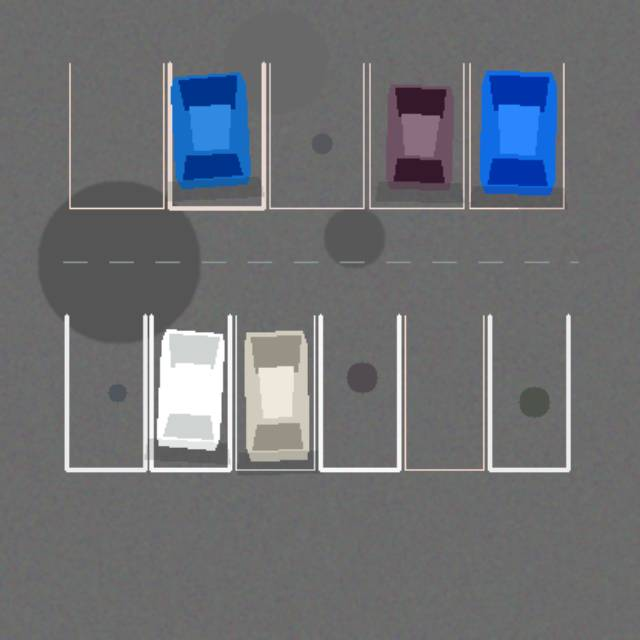space-empty: (69, 63, 163, 208), (269, 63, 363, 208), (66, 315, 145, 469), (489, 315, 568, 469), (320, 315, 398, 469), (405, 315, 483, 469)
space-occupied: (169, 63, 263, 208), (369, 63, 463, 208), (469, 63, 563, 208), (235, 315, 314, 469), (151, 315, 229, 469)
